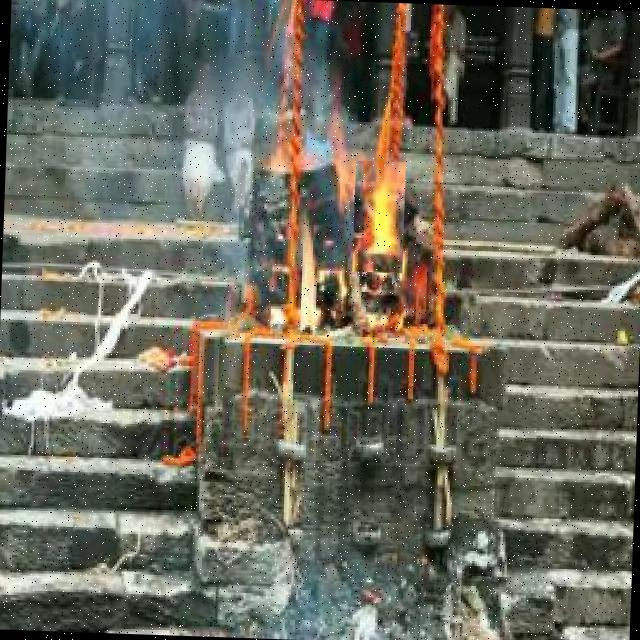fire: (352, 160, 406, 273)
